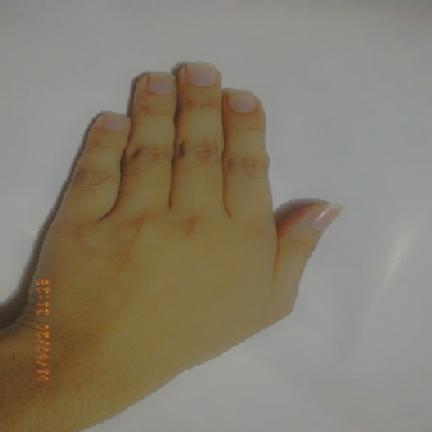Nail: (309, 204, 343, 234), (186, 62, 217, 86), (226, 89, 256, 113), (147, 73, 175, 95), (103, 115, 124, 131)
